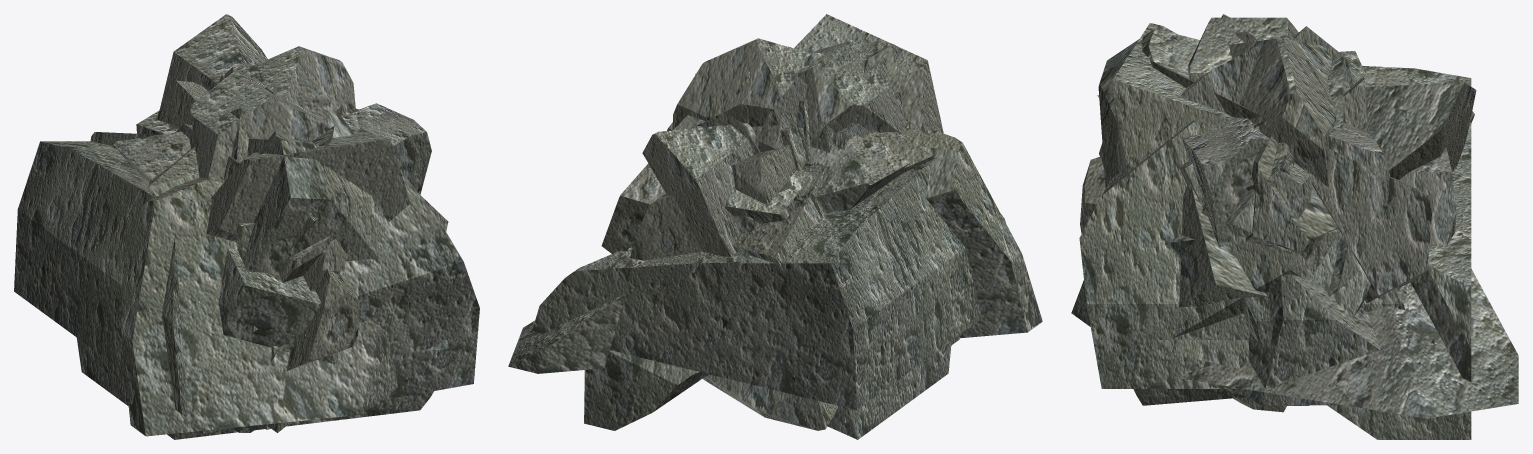
Rendered from rock_barrier.fbx.
3 renders of one model, left to right at view 1: azimuth 30°, elevation 25°; view 2: azimuth 150°, elevation 25°; view 3: azimuth 270°, elevation 25°, orthographic. The views are drawn at different scales.
Parts seen in each view (by area): view 1: Box001_Part_7, Box001_Part_51, Box001_Part_43, Box001_Part_59, Box001_Part_3, Box001_Part_57, Box001_Part_58, Box001_Part_18, Box001_Part_28, Box001_Part_29, Box001_Part_24, Box001_Part_19 (+6 smaller); view 2: Box001_Part_51, Box001_Part_7, Box001_Part_57, Box001_Part_59, Box001_Part_28, Box001_Part_58, Box001_Part_54, Box001_Part_24, Box001_Part_3, Box001_Part_11, Box001_Part_64, Box001_Part_5 (+8 smaller); view 3: Box001_Part_43, Box001_Part_7, Box001_Part_5, Box001_Part_44, Box001_Part_28, Box001_Part_57, Box001_Part_59, Box001_Part_3, Box001_Part_51, Box001_Part_54, Box001_Part_29, Box001_Part_36 (+12 smaller).
Part boxes in pixels (x1=…): Box001_Part_7: x1=121, y1=175, x2=397, y2=436; Box001_Part_51: x1=14, y1=141, x2=187, y2=414; Box001_Part_43: x1=339, y1=128, x2=479, y2=400; Box001_Part_59: x1=77, y1=132, x2=433, y2=439; Box001_Part_3: x1=206, y1=129, x2=410, y2=242; Box001_Part_57: x1=159, y1=14, x2=358, y2=370; Box001_Part_58: x1=190, y1=71, x2=330, y2=177; Box001_Part_18: x1=218, y1=248, x2=340, y2=364; Box001_Part_28: x1=239, y1=46, x2=355, y2=256; Box001_Part_29: x1=342, y1=103, x2=431, y2=194; Box001_Part_24: x1=114, y1=131, x2=190, y2=181; Box001_Part_19: x1=156, y1=80, x2=317, y2=253; Box001_Part_51: x1=532, y1=162, x2=1005, y2=410; Box001_Part_7: x1=508, y1=121, x2=1042, y2=373; Box001_Part_57: x1=642, y1=123, x2=755, y2=256; Box001_Part_59: x1=733, y1=42, x2=951, y2=439; Box001_Part_28: x1=672, y1=38, x2=811, y2=152; Box001_Part_58: x1=791, y1=41, x2=906, y2=147; Box001_Part_54: x1=584, y1=46, x2=790, y2=430; Box001_Part_24: x1=667, y1=122, x2=910, y2=213; Box001_Part_3: x1=794, y1=14, x2=943, y2=133; Box001_Part_11: x1=702, y1=52, x2=838, y2=430; Box001_Part_64: x1=630, y1=193, x2=758, y2=260; Box001_Part_5: x1=601, y1=40, x2=859, y2=253; Box001_Part_43: x1=1079, y1=120, x2=1405, y2=388; Box001_Part_7: x1=1071, y1=269, x2=1518, y2=418; Box001_Part_5: x1=1150, y1=60, x2=1432, y2=303; Box001_Part_44: x1=1231, y1=274, x2=1380, y2=405; Box001_Part_28: x1=1228, y1=38, x2=1359, y2=412; Box001_Part_57: x1=1080, y1=82, x2=1476, y2=233; Box001_Part_59: x1=1098, y1=28, x2=1474, y2=405; Box001_Part_3: x1=1113, y1=23, x2=1249, y2=368; Box001_Part_51: x1=1362, y1=65, x2=1471, y2=381; Box001_Part_54: x1=1180, y1=44, x2=1471, y2=439; Box001_Part_29: x1=1182, y1=117, x2=1269, y2=247; Box001_Part_36: x1=1179, y1=121, x2=1390, y2=405.
Bounding box in the file's own units: 490 × 413 × 467.
Materials: 1 (1 with a texture image).
